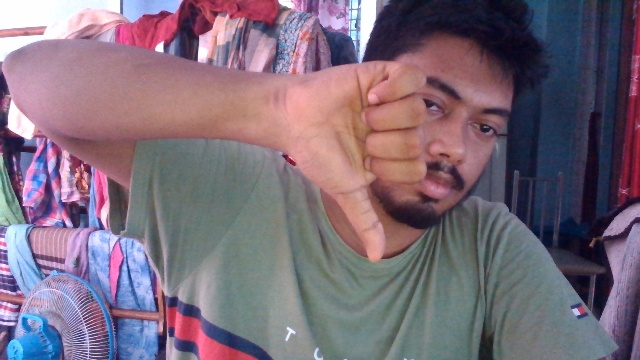no: (269, 55, 437, 275)
